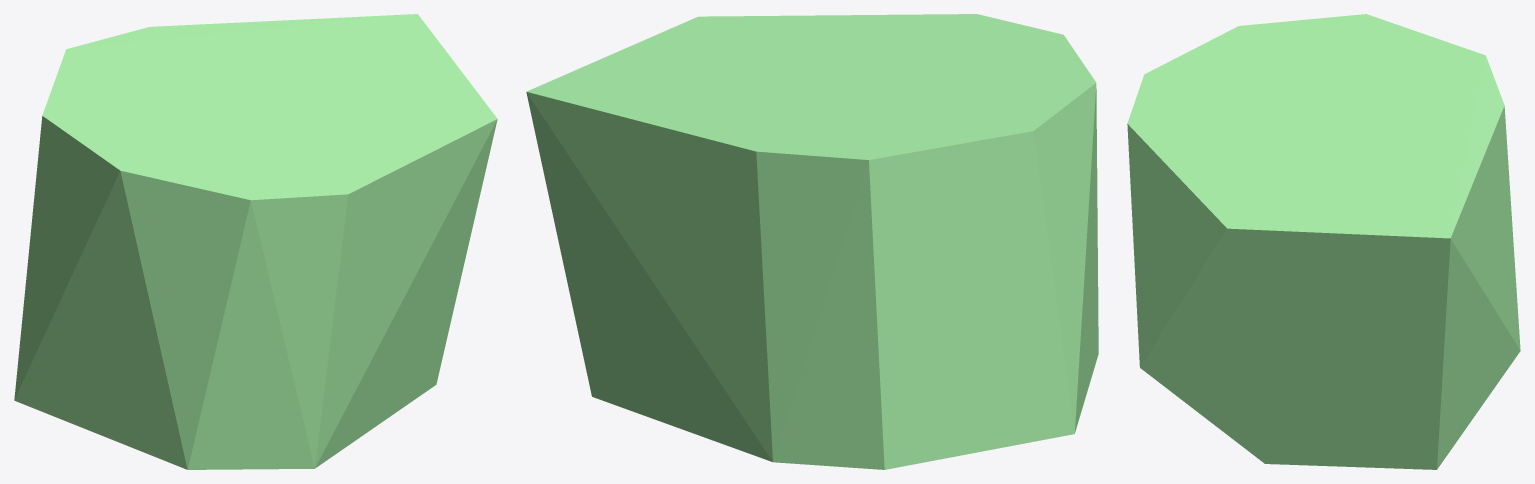
Rendered from UMIRobot_UMIRobot_link_5_convex_coll_70.dae.
3 renders of one model, left to right at view 1: azimuth 30°, elevation 25°; view 2: azimuth 150°, elevation 25°; view 3: azimuth 270°, elevation 25°, orthographic. The views are drawn at different scales.
Parts seen in each view (by area): view 1: node; view 2: node; view 3: node.
Boxes of the visible parts, x1=… form: node: x1=14, y1=14, x2=497, y2=469; node: x1=526, y1=14, x2=1098, y2=469; node: x1=1127, y1=14, x2=1520, y2=469.
Bounding box in the file's own units: 0.00734 × 0.00484 × 0.00586.
